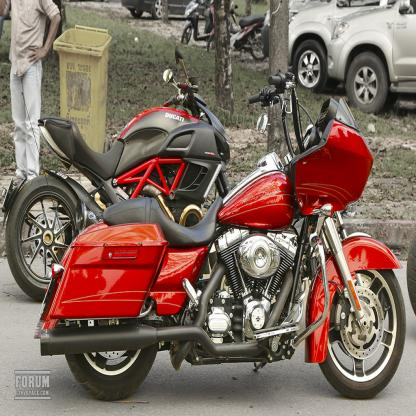Car: (289, 1, 397, 96), (329, 1, 416, 117), (261, 1, 326, 59), (121, 1, 209, 21)
